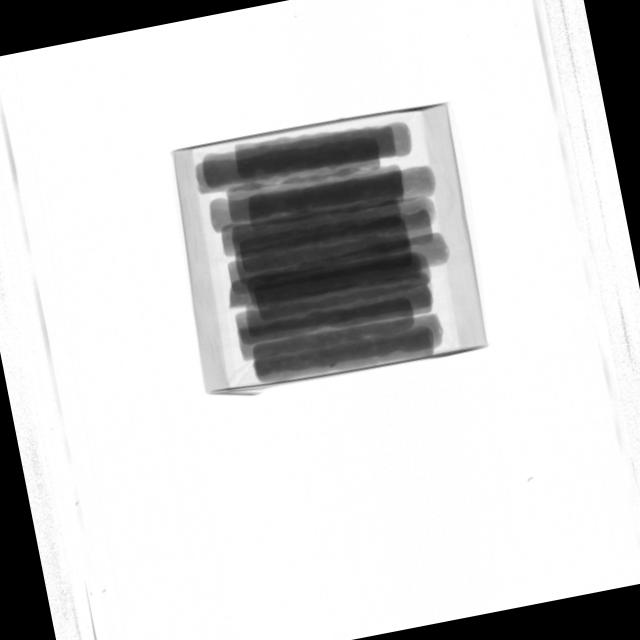ym: (329, 362, 338, 369)
